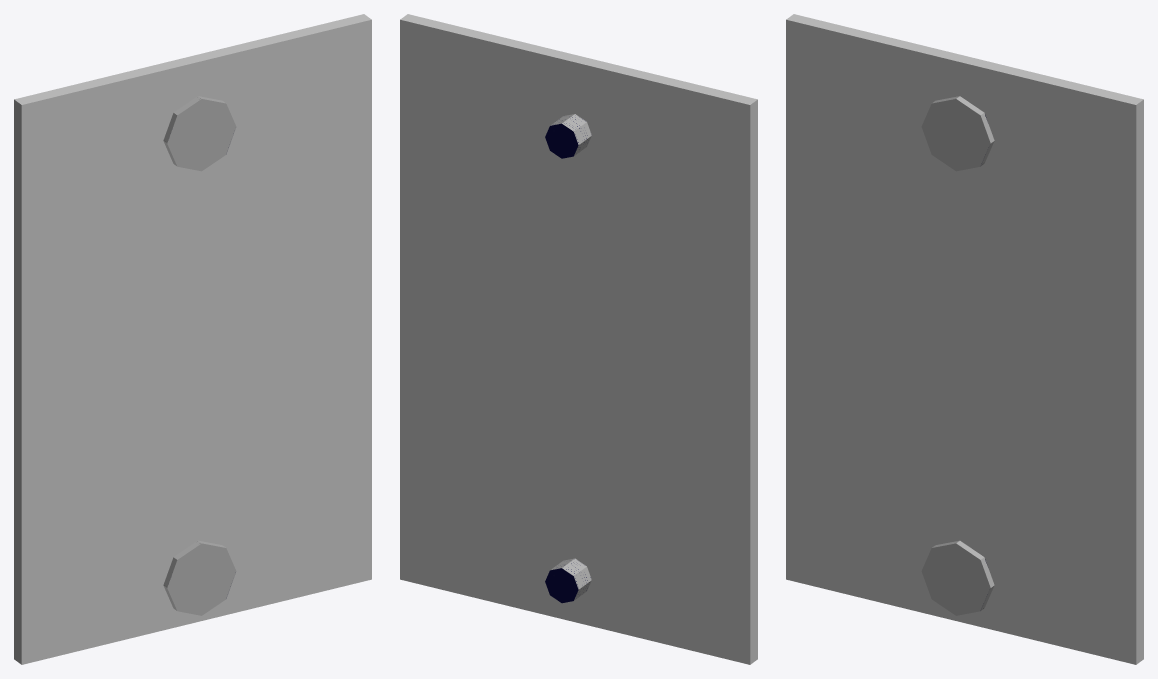
The model's file is Wall Prop.fbx.
3 renders of one model, left to right at view 1: azimuth 30°, elevation 25°; view 2: azimuth 150°, elevation 25°; view 3: azimuth 330°, elevation 25°, orthographic.
Parts seen in each view (by area): view 1: Sign.002, Screw.006, Screw.007; view 2: Sign.002, Screw.006, Screw.007; view 3: Sign.002, Screw.006, Screw.007.
Boxes of the visible parts, x1=… form: Sign.002: x1=14, y1=14, x2=371, y2=664; Screw.006: x1=163, y1=540, x2=236, y2=615; Screw.007: x1=163, y1=96, x2=236, y2=171; Sign.002: x1=400, y1=14, x2=757, y2=664; Screw.006: x1=545, y1=558, x2=591, y2=603; Screw.007: x1=545, y1=114, x2=591, y2=158; Sign.002: x1=786, y1=14, x2=1143, y2=664; Screw.006: x1=921, y1=540, x2=994, y2=615; Screw.007: x1=921, y1=96, x2=994, y2=171.
Bounding box in the file's own units: 200 × 306 × 25.72.
